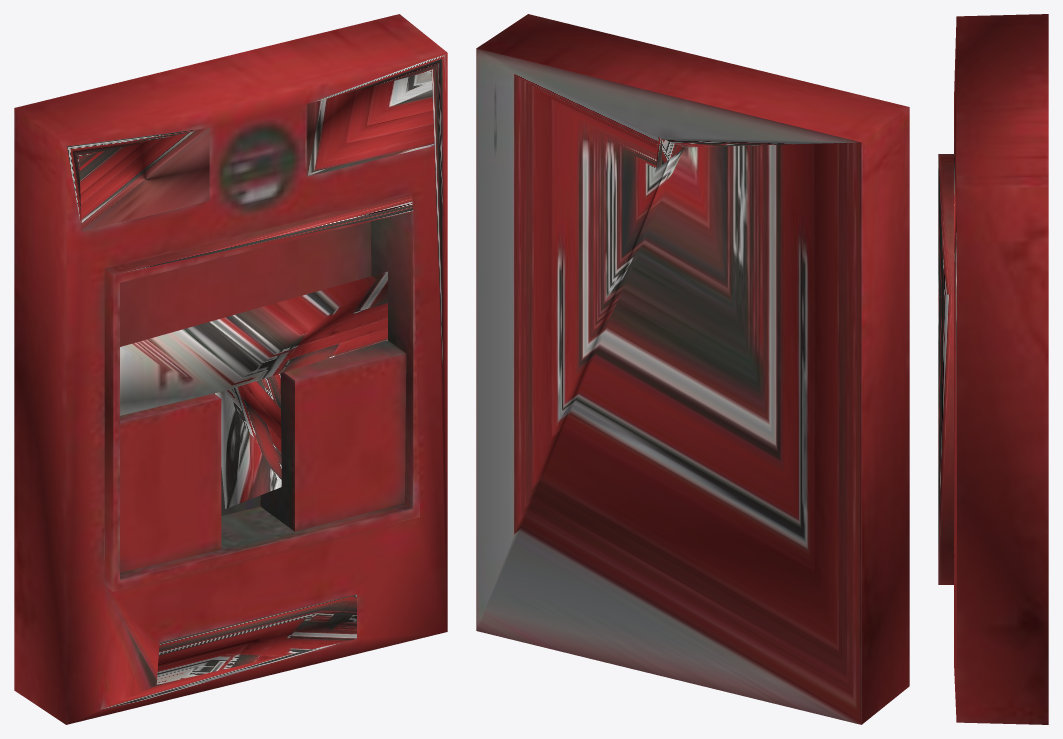
The model's file is fire_alarm.glb.
3 views of the same model, side by side, from view 1: azimuth 30°, elevation 25°; view 2: azimuth 150°, elevation 25°; view 3: azimuth 270°, elevation 25° (orthographic). The views are drawn at different scales.
Visible parts, largest first — view 1: fire_alarm, fire_alarm_lever; view 2: fire_alarm; view 3: fire_alarm.
Boxes of the visible parts, x1,y1,x2,y2 form: fire_alarm: [14, 14, 447, 724]; fire_alarm_lever: [120, 271, 387, 508]; fire_alarm: [476, 14, 909, 724]; fire_alarm: [938, 14, 1048, 724].
Bounding box in the file's own units: 0.0984 × 0.1422 × 0.0264.
Materials: 1 (1 with a texture image).
